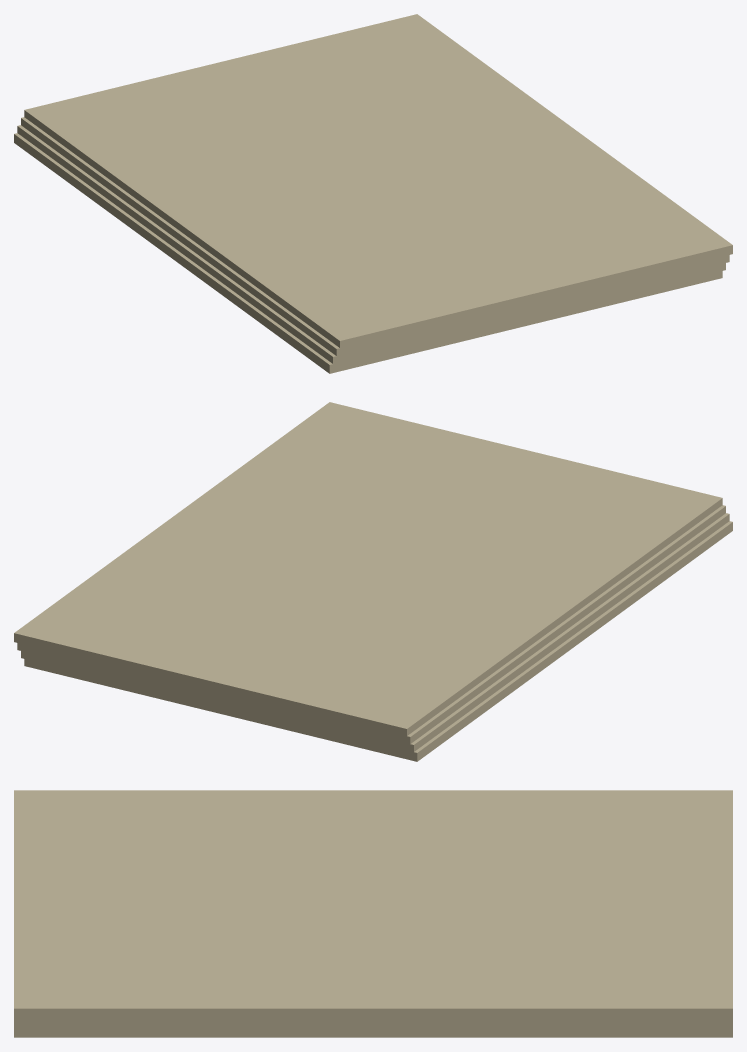
File: folded_newspaper.obj
The picture shows the model from 3 angles, top to bottom: view 1: azimuth 30°, elevation 25°; view 2: azimuth 150°, elevation 25°; view 3: azimuth 270°, elevation 25°; orthographic projection. The views are drawn at different scales.
Visible parts, largest first — view 1: folded_pages; view 2: folded_pages; view 3: folded_pages.
Boxes of the visible parts, left/top/right/bottom form: folded_pages: left=14, top=14, right=732, bottom=373; folded_pages: left=14, top=402, right=732, bottom=761; folded_pages: left=14, top=790, right=732, bottom=1037.
Size of the model in its own units: 0.236 by 0.017 by 0.32.
